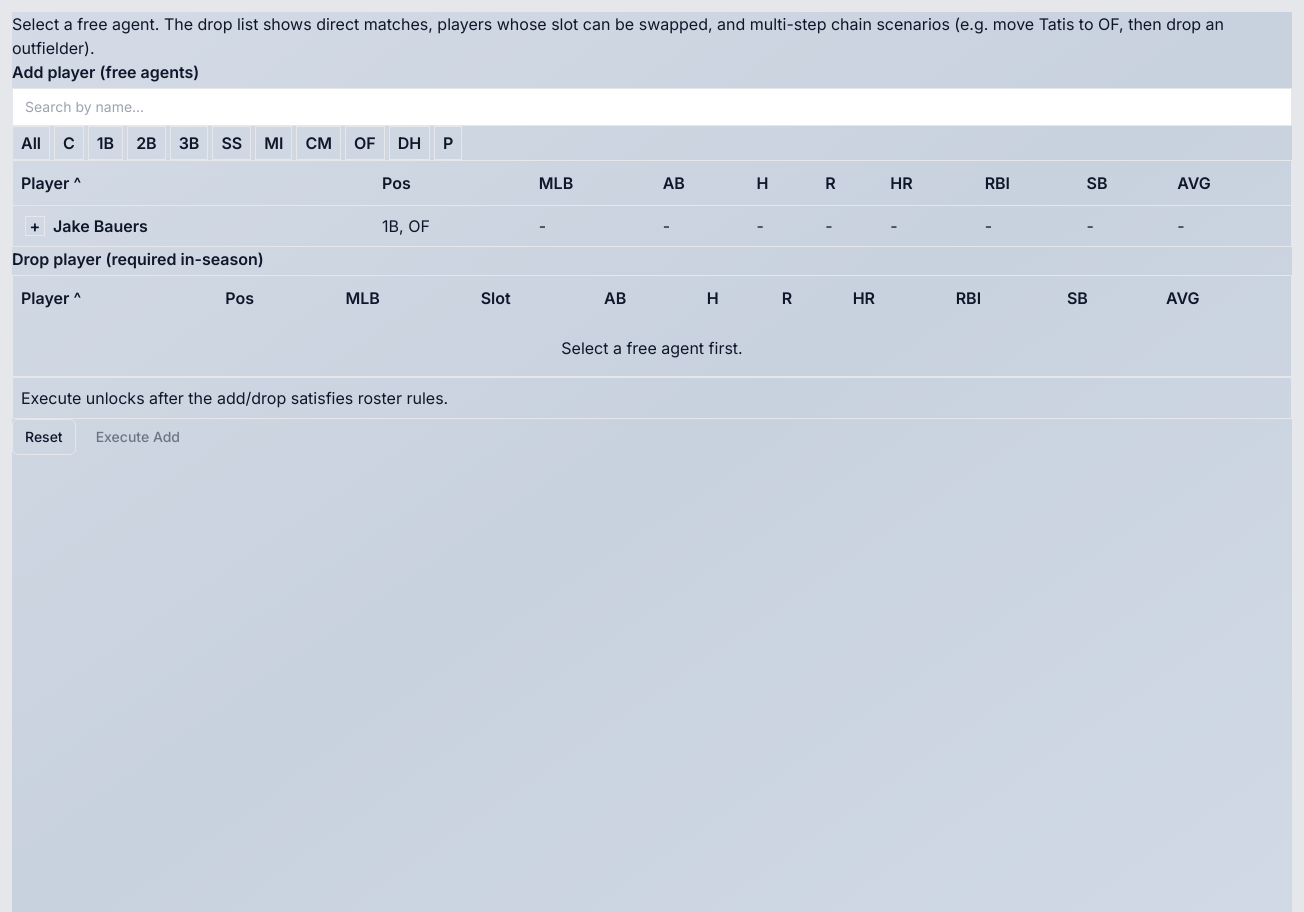
Test: AddDropPanel — DROP_REQUIRED in-season › in-season, inline amber warning appears when add is picked but drop isn't — the UX that prevents the server 400
This screenshot has width=1304, height=912.
Expected: the text "In-season adds require a matching drop" is not shown
Click the text "Jake Bauers".
click(100, 226)  # box [53,214,148,238]
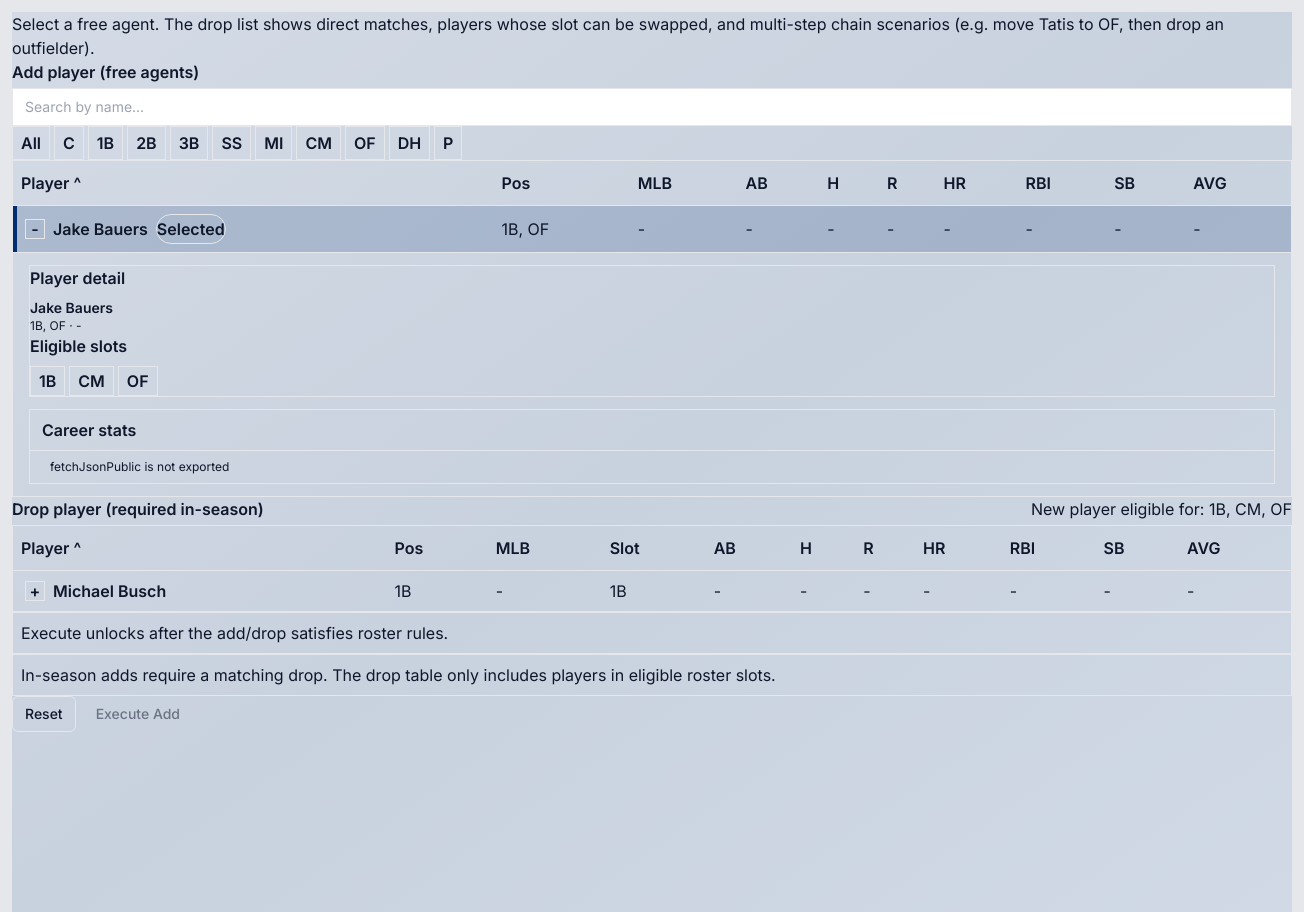
Now the text "In-season adds require a matching drop" is shown, box [21,665,776,685]
